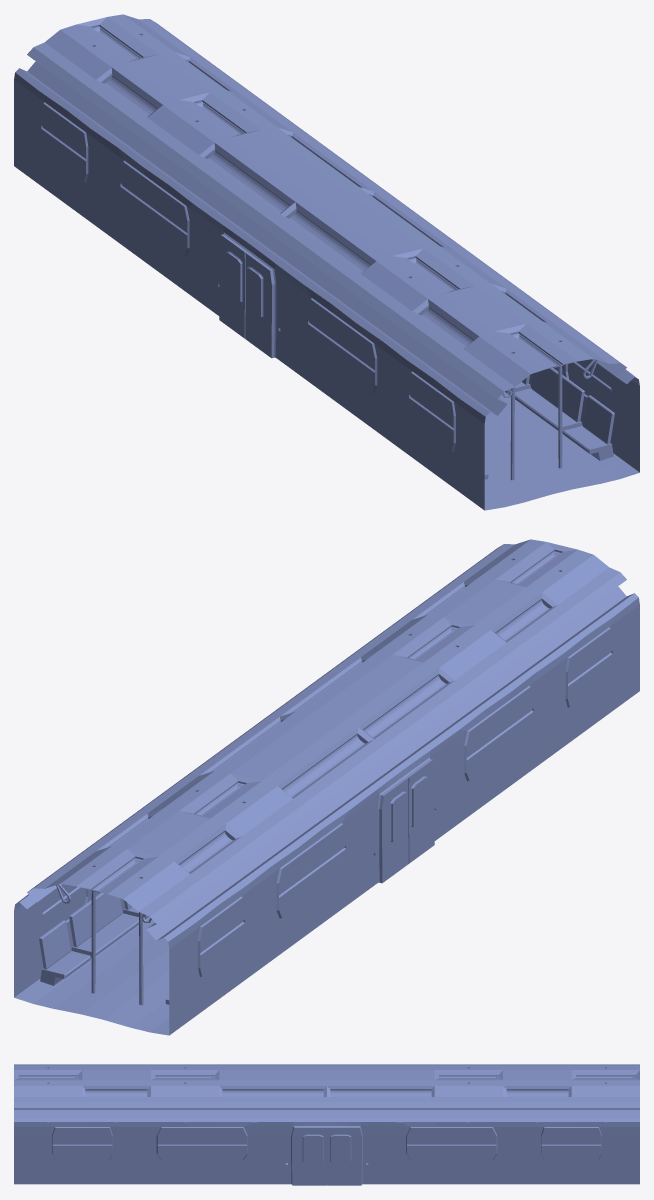
Rendered from subway (with modifiers).obj.
3 renders of one model, top to bottom at view 1: azimuth 30°, elevation 25°; view 2: azimuth 150°, elevation 25°; view 3: azimuth 270°, elevation 25°, orthographic. The views are drawn at different scales.
Visible parts, largest first — view 1: Subway_Cube.001; view 2: Subway_Cube.001; view 3: Subway_Cube.001.
Boxes of the visible parts, x1,y1,x2,y2 form: Subway_Cube.001: (14,14,639,510); Subway_Cube.001: (14,539,639,1035); Subway_Cube.001: (14,1064,639,1185).
Bounding box in the file's own units: 2.82 × 2.06 × 13.71.
